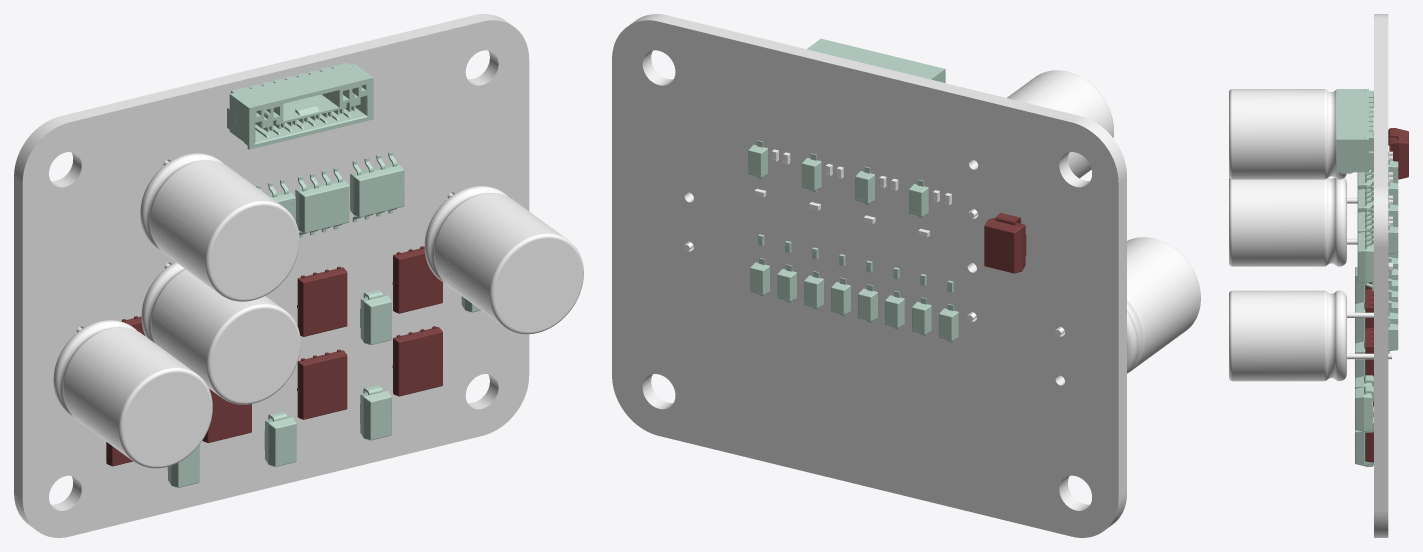
File: Easykiconverter_展示模型-mobile.glb
The picture shows the model from 3 angles, left to right: view 1: azimuth 30°, elevation 25°; view 2: azimuth 150°, elevation 25°; view 3: azimuth 270°, elevation 25°; orthographic projection. The views are drawn at different scales.
Parts seen in each view (by area): view 1: STEP mesh 1, STEP mesh 301, STEP mesh 302, STEP mesh 300, STEP mesh 303, STEP mesh 285, STEP mesh 163, STEP mesh 170, STEP mesh 165, STEP mesh 164, STEP mesh 203, STEP mesh 269 (+5 smaller); view 2: STEP mesh 1, STEP mesh 302, STEP mesh 301, STEP mesh 299, STEP mesh 285; view 3: STEP mesh 300, STEP mesh 303, STEP mesh 301, STEP mesh 1, STEP mesh 285, STEP mesh 28, STEP mesh 299, STEP mesh 203, STEP mesh 14, STEP mesh 164, STEP mesh 98, STEP mesh 112 (+7 smaller).
Boxes of the visible parts, <box> form: STEP mesh 1: <box>14,14,529,537</box>; STEP mesh 301: <box>140,153,299,301</box>; STEP mesh 302: <box>53,320,212,468</box>; STEP mesh 300: <box>424,186,583,334</box>; STEP mesh 303: <box>141,262,300,404</box>; STEP mesh 285: <box>227,63,373,149</box>; STEP mesh 163: <box>297,349,347,419</box>; STEP mesh 170: <box>297,266,347,336</box>; STEP mesh 165: <box>392,326,442,396</box>; STEP mesh 164: <box>392,246,442,313</box>; STEP mesh 203: <box>350,163,404,217</box>; STEP mesh 269: <box>295,179,349,233</box>; STEP mesh 1: <box>612,14,1126,537</box>; STEP mesh 302: <box>1055,237,1200,373</box>; STEP mesh 301: <box>968,70,1113,218</box>; STEP mesh 299: <box>984,213,1026,273</box>; STEP mesh 285: <box>807,38,945,82</box>; STEP mesh 300: <box>1229,290,1391,381</box>; STEP mesh 303: <box>1229,178,1357,266</box>; STEP mesh 301: <box>1229,89,1388,179</box>; STEP mesh 1: <box>1374,14,1388,537</box>; STEP mesh 285: <box>1336,89,1373,174</box>; STEP mesh 28: <box>1355,386,1373,432</box>; STEP mesh 299: <box>1388,128,1408,179</box>; STEP mesh 203: <box>1357,232,1373,283</box>; STEP mesh 14: <box>1355,430,1373,466</box>; STEP mesh 164: <box>1365,327,1373,376</box>; STEP mesh 98: <box>1355,302,1365,343</box>; STEP mesh 112: <box>1355,341,1365,377</box>.
Size of the model in its own units: 2 by 1.56 by 0.7341.
